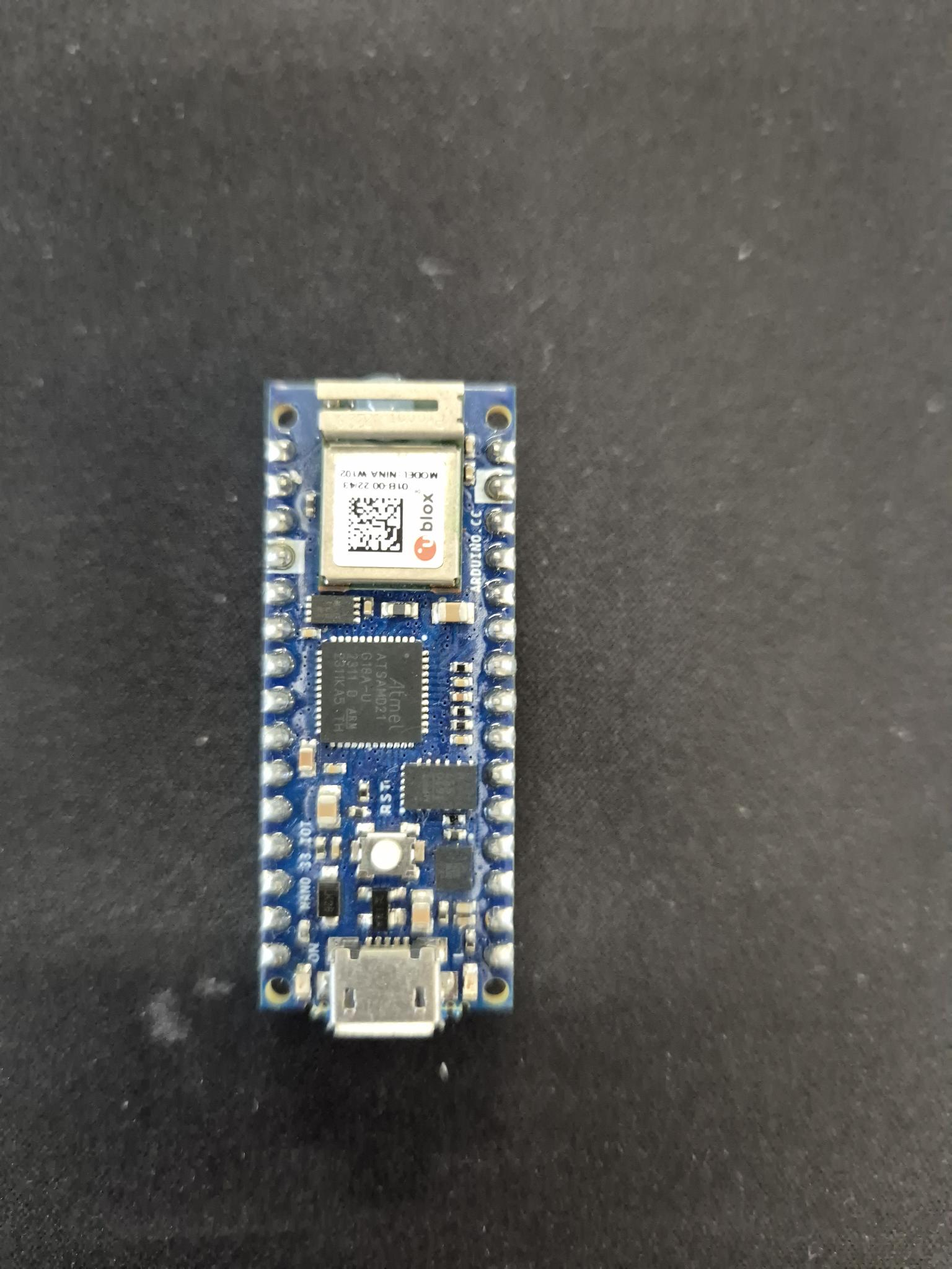arduino-nano-iot-33: (252, 374, 525, 1037)
